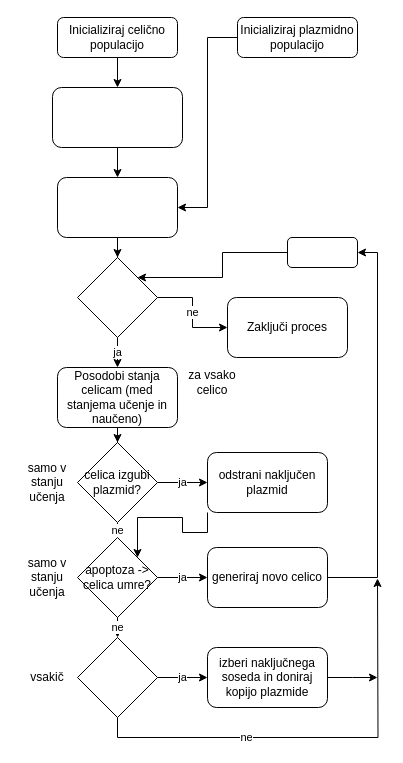
Some shapes in this 403 by 763 pixel diagram are drawn without their labels. Here are the shapes that lost their labels. From the top down, the centre of each, then its label:
the point at 117,117: Dodaj celicam osnovne funkcije (fitnes, signal apopotoze)
the point at 117,207: Dodaj funkcije procesiranja (izberi naključne plazmide)
the point at 322,252: t = t + dt
the point at 117,297: t < t end
the point at 117,677: kopiraj plazmid
